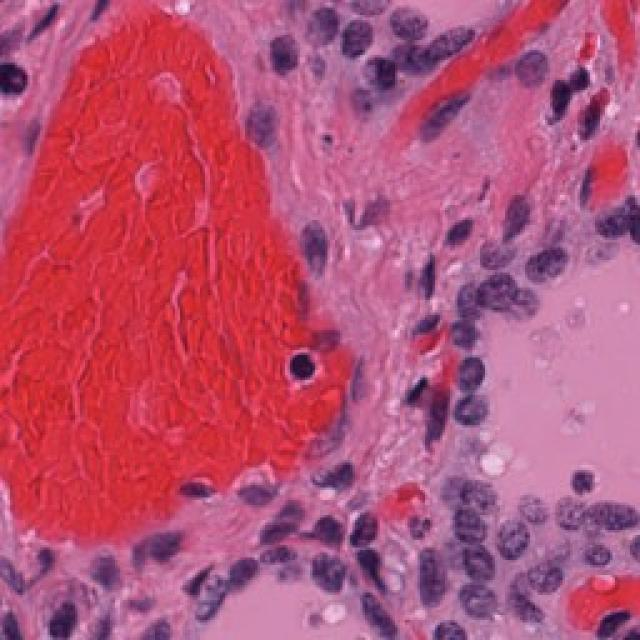normal: (322, 0, 382, 77), (359, 44, 418, 116), (433, 304, 503, 360), (433, 493, 503, 546), (307, 532, 358, 604), (445, 345, 508, 401), (367, 0, 442, 42), (438, 581, 510, 623), (185, 570, 229, 632), (474, 270, 528, 318), (453, 389, 495, 450), (493, 506, 538, 562), (455, 545, 499, 581)
